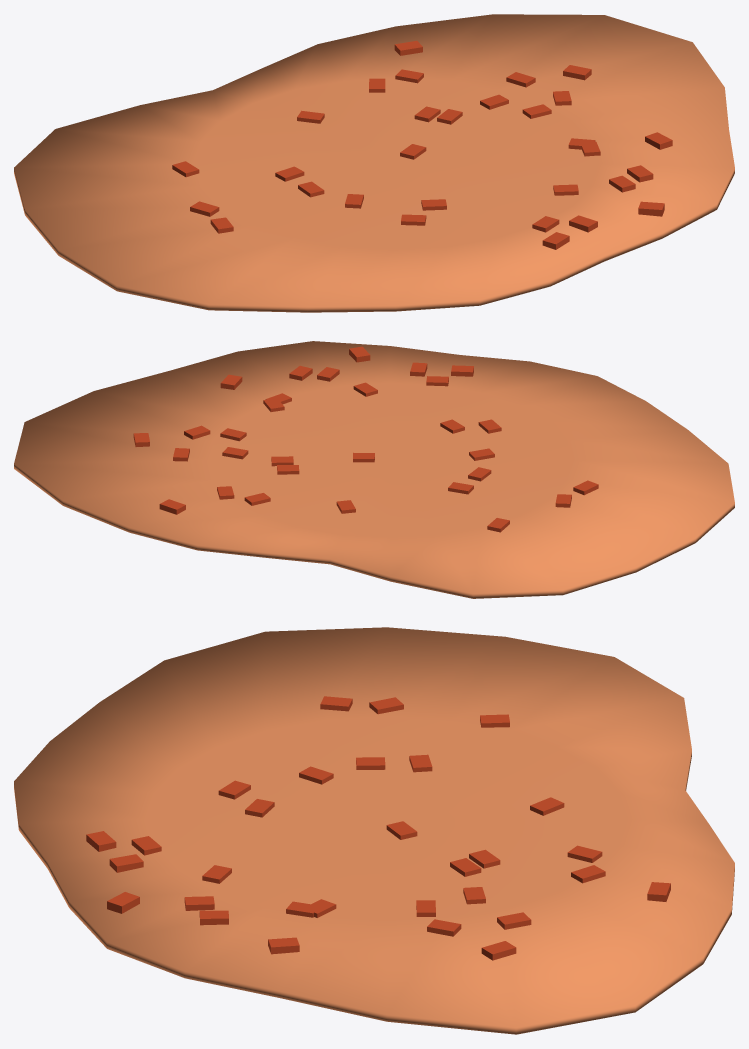
File: sauce-burger.glb
3 renders of one model, top to bottom at view 1: azimuth 30°, elevation 25°; view 2: azimuth 150°, elevation 25°; view 3: azimuth 270°, elevation 25°, orthographic. The views are drawn at different scales.
Visible parts, largest first — view 1: sauce-burger, sauce-burger-fleck; view 2: sauce-burger, sauce-burger-fleck; view 3: sauce-burger, sauce-burger-fleck.
Boxes of the visible parts, box(x1,y1,x2,y2) form: sauce-burger: box(14, 14, 734, 312); sauce-burger-fleck: box(172, 40, 672, 249); sauce-burger: box(14, 341, 734, 598); sauce-burger-fleck: box(133, 346, 598, 532); sauce-burger: box(14, 627, 734, 1034); sauce-burger-fleck: box(86, 696, 670, 960).
Size of the model in its own units: 9.83 by 0.18 by 7.48.
